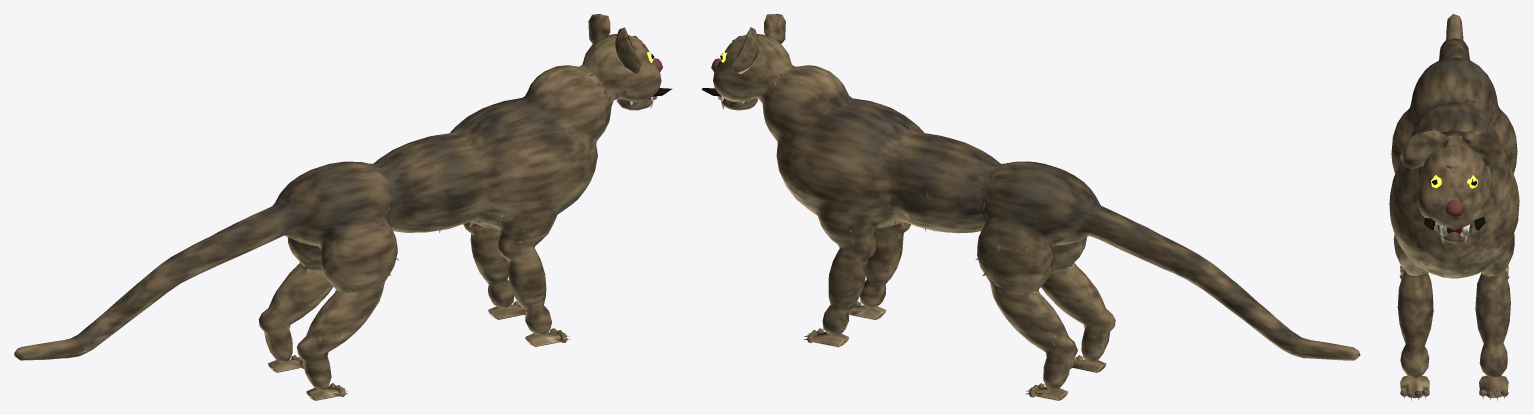
File: wampus-cat.glb
3 views of the same model, side by side, from view 1: azimuth 30°, elevation 25°; view 2: azimuth 150°, elevation 25°; view 3: azimuth 270°, elevation 25° (orthographic). The views are drawn at different scales.
Visible parts, largest first — view 1: wampus-cat.001; view 2: wampus-cat.001; view 3: wampus-cat.001.
Boxes of the visible parts, x1,y1,x2,y2 form: wampus-cat.001: [14, 14, 672, 400]; wampus-cat.001: [701, 14, 1360, 400]; wampus-cat.001: [1389, 14, 1519, 400].
Size of the model in its own units: 2.78 by 1.18 by 0.454.
Materials: 9 (1 with a texture image).
